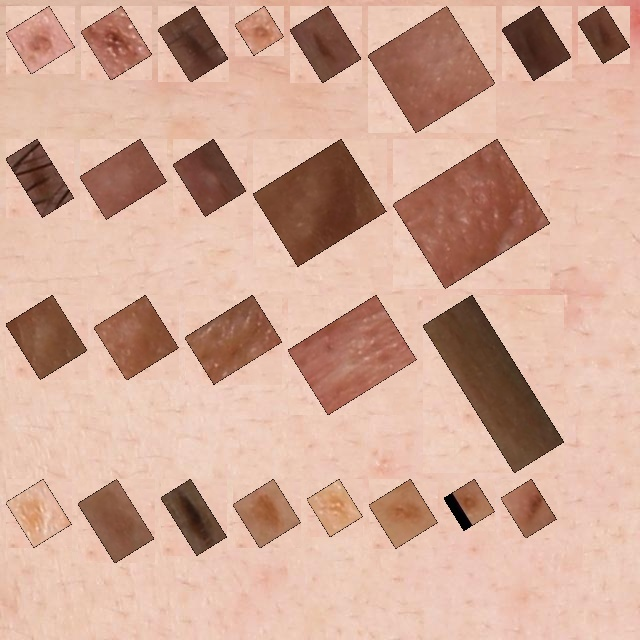hypertrophic_scar: (404, 150, 539, 277), (264, 150, 375, 255), (379, 17, 484, 121), (299, 306, 405, 404), (196, 306, 271, 373), (105, 306, 168, 369), (91, 150, 156, 208), (17, 306, 76, 368)
melasma: (434, 306, 553, 461), (89, 490, 143, 552), (380, 490, 427, 537), (17, 490, 60, 536), (318, 490, 352, 525)
nevus: (301, 17, 350, 71), (169, 17, 217, 71), (17, 150, 63, 206), (92, 17, 141, 69), (513, 17, 560, 69), (172, 490, 216, 544), (17, 17, 64, 63), (512, 490, 545, 527), (589, 17, 619, 52), (455, 490, 484, 519), (246, 17, 273, 44)
pustule: (184, 150, 235, 205)
